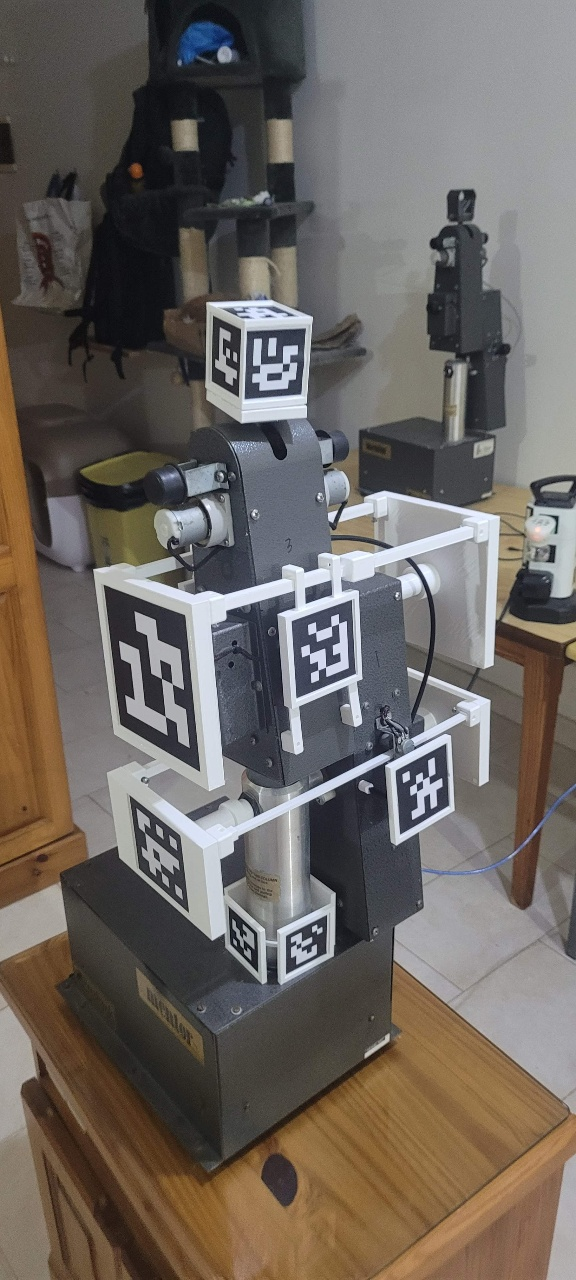Robot: (1, 151, 557, 953)
